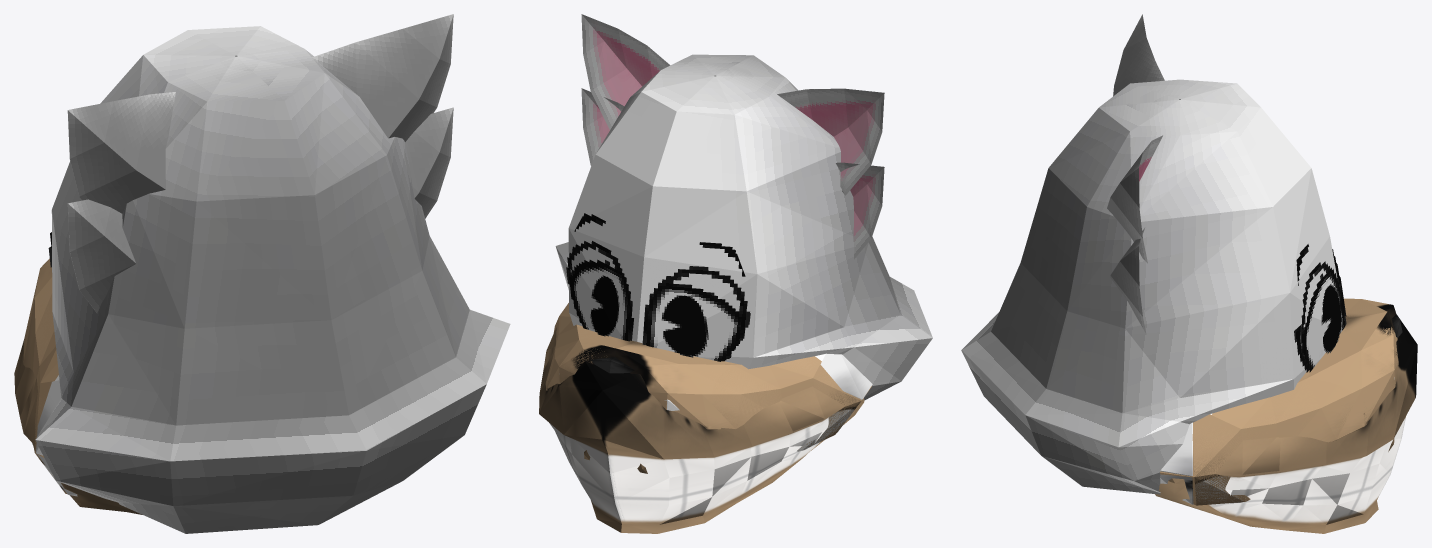
Rendered from cat_heads.fbx.
The picture shows the model from 3 angles, left to right: view 1: azimuth 30°, elevation 25°; view 2: azimuth 150°, elevation 25°; view 3: azimuth 270°, elevation 25°; orthographic projection. The views are drawn at different scales.
Parts seen in each view (by area): view 1: head_long, head_short, earL_long, earR_long, earL_short, earR_short, muzzle_long_surprise, muzzle_long_smile, muzzle_long_angry, muzzle_long; view 2: head_long, muzzle_long_smile, head_front_long, muzzle_long_surprise, eyes_long, head_short, earL_long, earR_long, muzzle_long_angry, muzzle_long_sad, joint_pupilL_short, earL_short (+4 smaller); view 3: head_long, head_short, muzzle_long_smile, muzzle_long_surprise, muzzle_long_sad, head_front_long, muzzle_long_angry, eyes_long, earR_long, earL_long, earR_short, muzzle_long (+1 smaller).
Boxes of the visible parts, bbox=[...] form: head_long: bbox=[51, 26, 469, 425]; head_short: bbox=[35, 309, 510, 533]; earL_long: bbox=[67, 92, 175, 213]; earR_long: bbox=[312, 14, 453, 141]; earL_short: bbox=[67, 199, 136, 313]; earR_short: bbox=[405, 107, 453, 218]; muzzle_long_surprise: bbox=[23, 259, 58, 478]; muzzle_long_smile: bbox=[14, 340, 142, 514]; muzzle_long_angry: bbox=[23, 259, 66, 493]; muzzle_long: bbox=[36, 375, 77, 496]; head_long: bbox=[595, 54, 900, 357]; muzzle_long_smile: bbox=[539, 327, 864, 533]; head_front_long: bbox=[568, 154, 757, 357]; muzzle_long_surprise: bbox=[553, 307, 871, 473]; eyes_long: bbox=[566, 213, 749, 361]; head_short: bbox=[555, 242, 932, 400]; earL_long: bbox=[777, 88, 884, 195]; earR_long: bbox=[581, 14, 670, 129]; muzzle_long_angry: bbox=[548, 307, 871, 451]; muzzle_long_sad: bbox=[545, 303, 780, 429]; joint_pupilL_short: bbox=[661, 295, 708, 357]; earL_short: bbox=[836, 162, 884, 259]; head_long: bbox=[991, 79, 1311, 412]; head_short: bbox=[961, 312, 1293, 494]; muzzle_long_smile: bbox=[1155, 314, 1417, 533]; muzzle_long_surprise: bbox=[1160, 298, 1398, 505]; muzzle_long_sad: bbox=[1160, 303, 1398, 504]; head_front_long: bbox=[1273, 168, 1337, 378]; muzzle_long_angry: bbox=[1164, 301, 1395, 503]; eyes_long: bbox=[1296, 244, 1346, 372]; earR_long: bbox=[1107, 135, 1162, 263]; earL_long: bbox=[1113, 14, 1164, 96]; earR_short: bbox=[1110, 228, 1146, 334]; muzzle_long: bbox=[1160, 314, 1402, 504].
Bounding box in the file's own units: 42.72 × 43.89 × 42.4.
15 materials, 15 textured.
